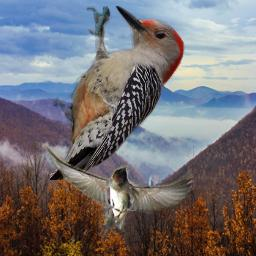Swallow: (42, 143, 196, 235)
Woodpecker: (50, 6, 185, 180)
